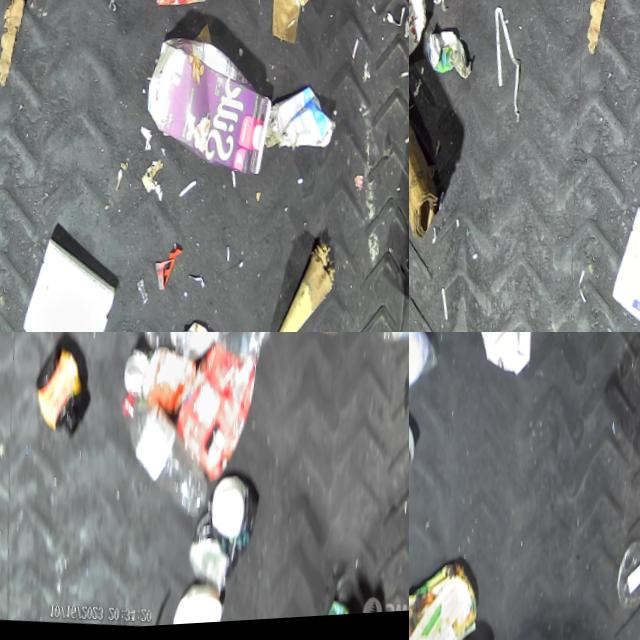can: (172, 472, 262, 601), (409, 0, 428, 68)
milk_jug: (454, 332, 543, 385)
non_white_jug: (135, 31, 277, 186)
plastic_bottle: (107, 382, 211, 525), (128, 332, 274, 381), (362, 332, 409, 365)
